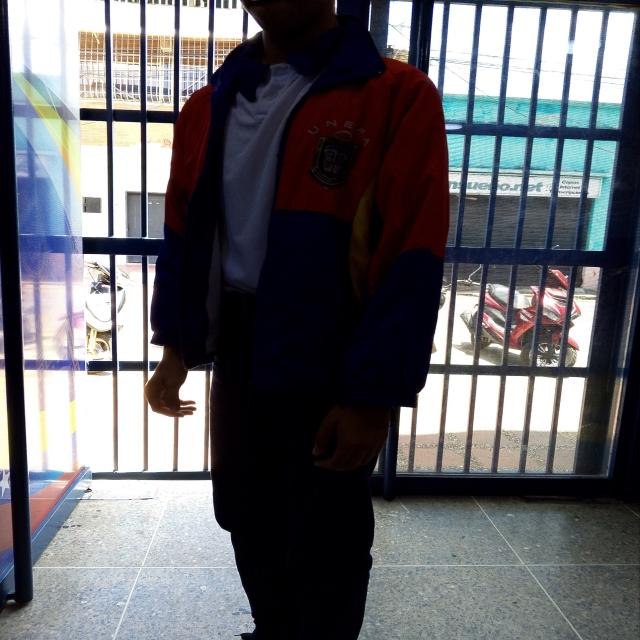chaqueta_unefa: (149, 13, 450, 410)
